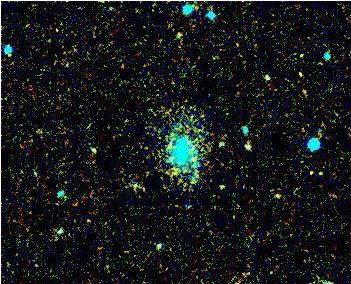star: (207, 171, 237, 201)
